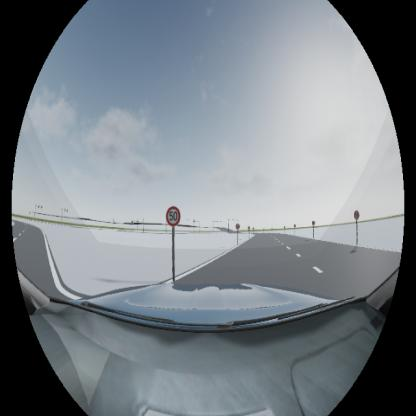Speed Limit 50: (166, 205, 181, 226)
